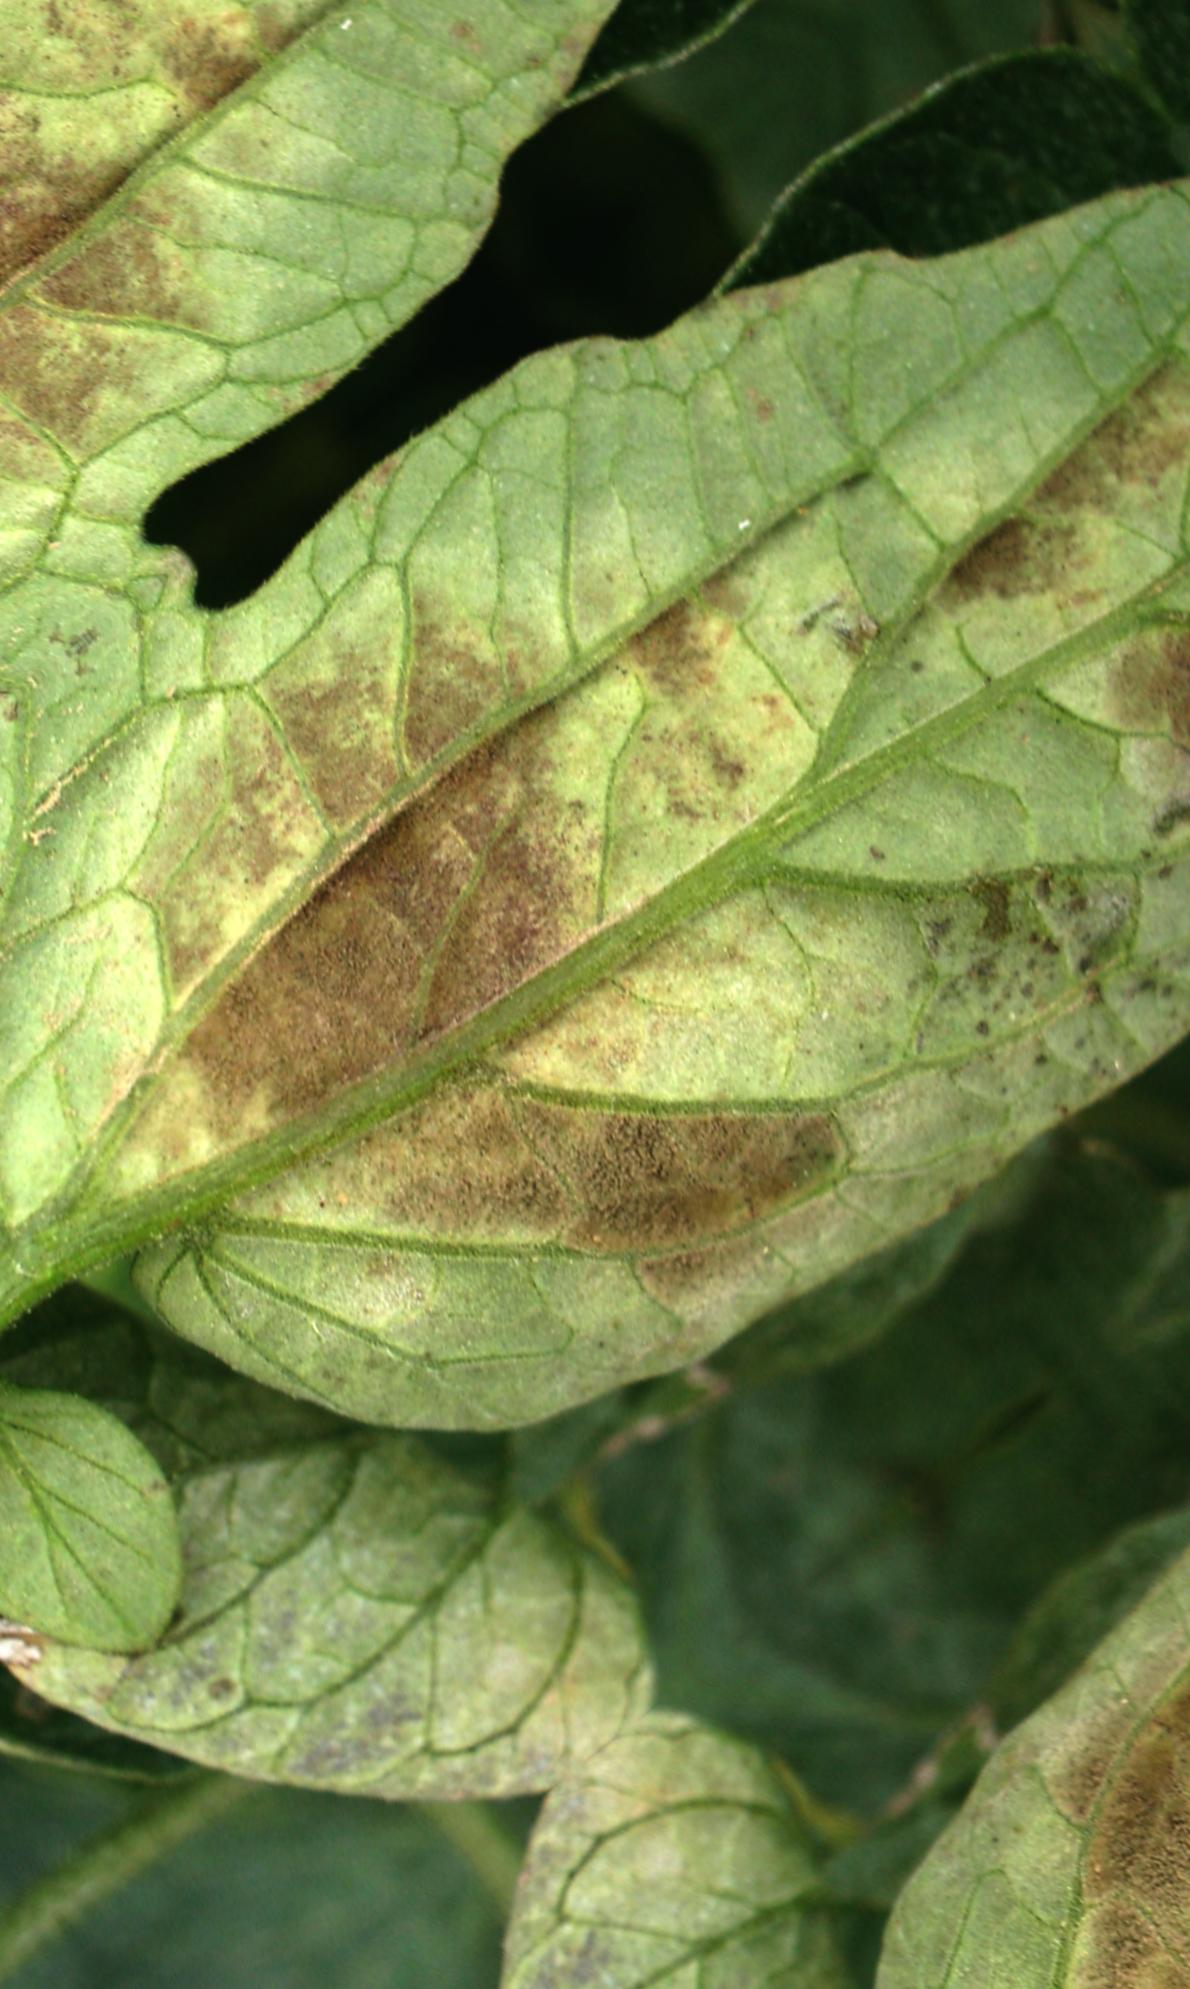Tomato mold leaf: (0, 0, 1190, 1934), (0, 1149, 759, 1989)
